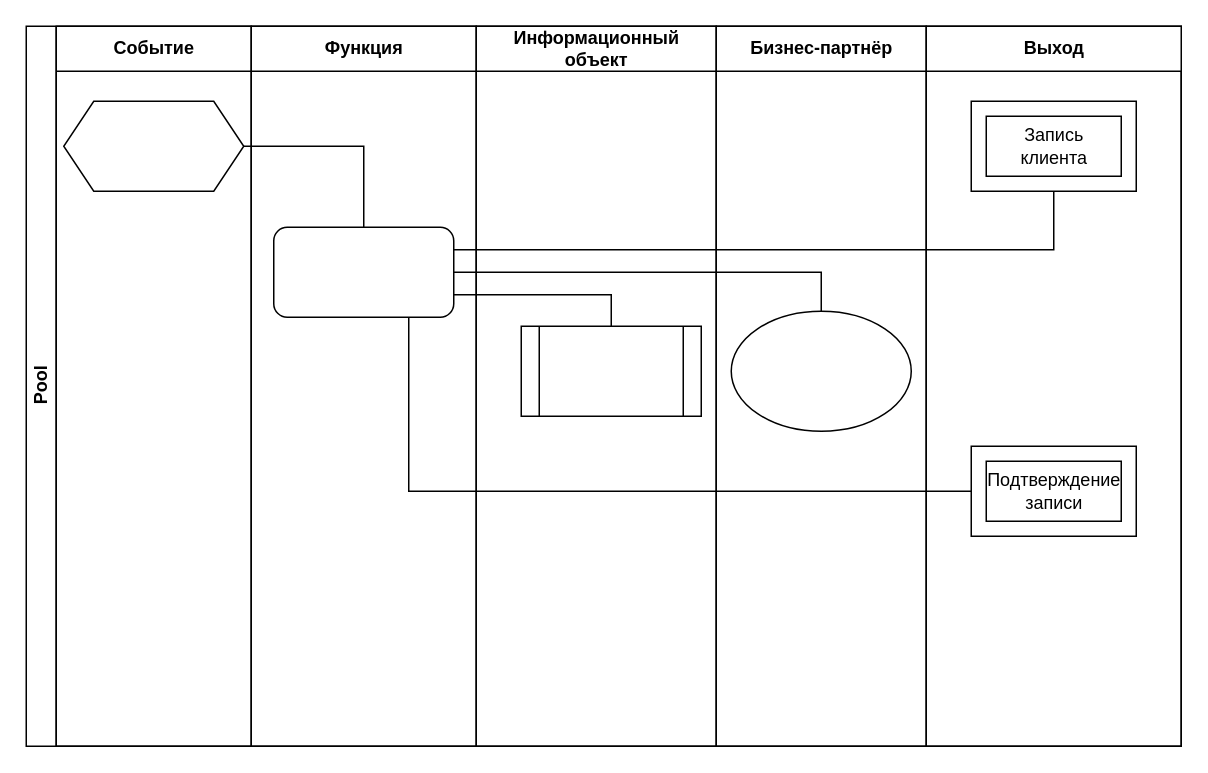
Image size: 1208x773. Some labels were removed from this diagram. The shapes that lost their labels are listed below. From the top down, each one's centre as x and y in pixels, then its label:
At (x=153, y=145): "Поступила заявка клиента".
At (x=363, y=271): "Обработка заявки".
At (x=610, y=370): "Запись".
At (x=820, y=370): "Отдел продаж".
